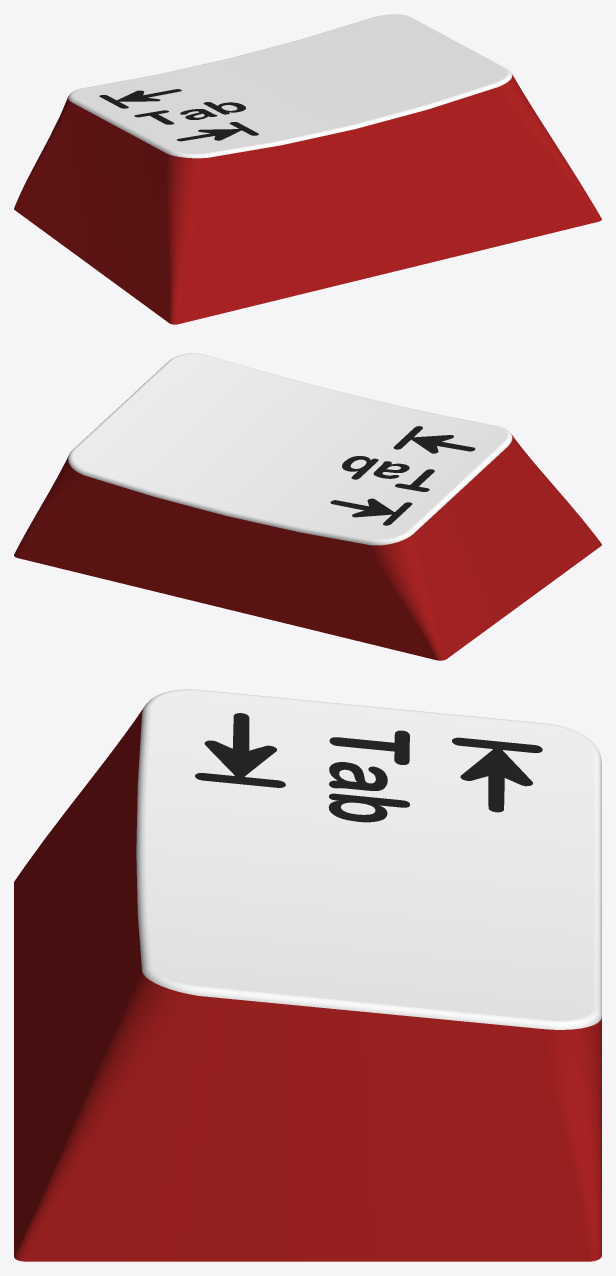
File: Tab Text + Icon 150.fbx
3 views of the same model, one above another, from view 1: azimuth 30°, elevation 25°; view 2: azimuth 150°, elevation 25°; view 3: azimuth 270°, elevation 25° (orthographic). The views are drawn at different scales.
Parts seen in each view (by area): view 1: Body1; view 2: Body1; view 3: Body1.
Boxes of the visible parts, x1,y1,x2,y2 form: Body1: (14,14,601,324); Body1: (14,353,601,660); Body1: (14,689,601,1261).
Bounding box in the file's own units: 27.81 × 7.89 × 18.
